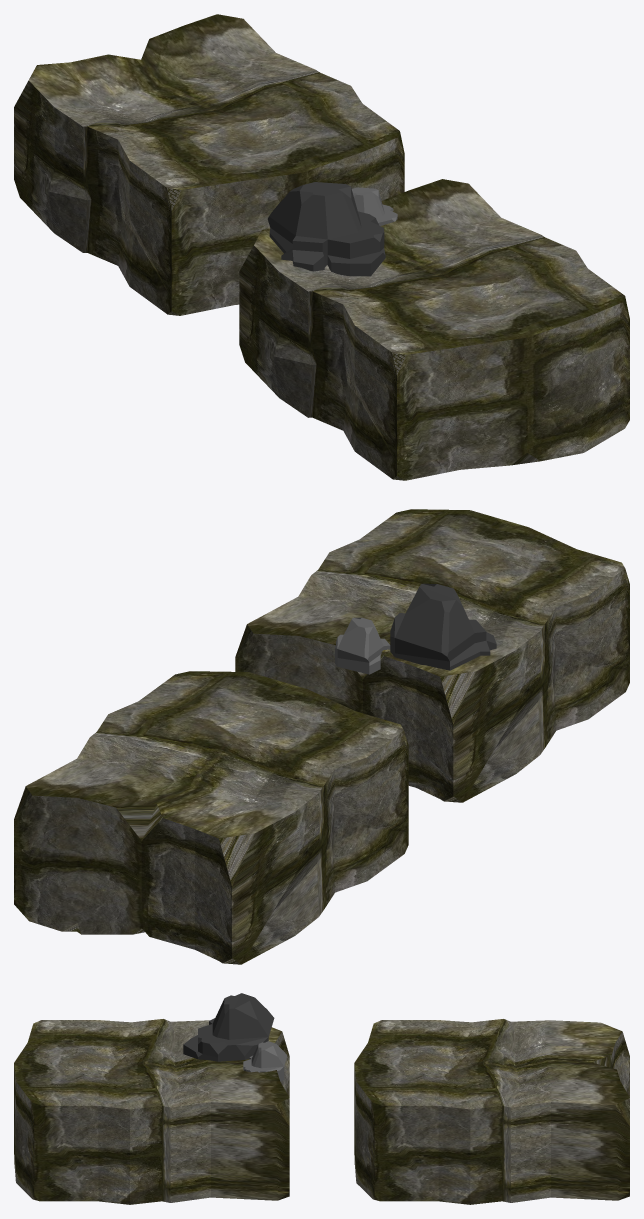
Rendered from Ground.fbx.
3 renders of one model, top to bottom at view 1: azimuth 30°, elevation 25°; view 2: azimuth 150°, elevation 25°; view 3: azimuth 270°, elevation 25°, orthographic. The views are drawn at different scales.
Visible parts, largest first — view 1: terre2, terre2.001, rocher2, rocher1; view 2: terre2.001, terre2, rocher2, rocher1; view 3: terre2.001, terre2, rocher2, rocher1.
Boxes of the visible parts, left/top/right/bottom form: terre2: left=239, top=179, right=629, bottom=480; terre2.001: left=14, top=14, right=404, bottom=315; rocher2: left=267, top=182, right=385, bottom=276; rocher1: left=351, top=187, right=397, bottom=225; terre2.001: left=14, top=671, right=408, bottom=964; terre2: left=235, top=509, right=629, bottom=802; rocher2: left=390, top=583, right=496, bottom=670; rocher1: left=335, top=617, right=390, bottom=674; terre2.001: left=354, top=1019, right=629, bottom=1204; terre2: left=14, top=1019, right=289, bottom=1204; rocher2: left=183, top=993, right=274, bottom=1061; rocher1: left=243, top=1041, right=287, bottom=1081.
Size of the model in its own units: 450 by 329 by 1297.
